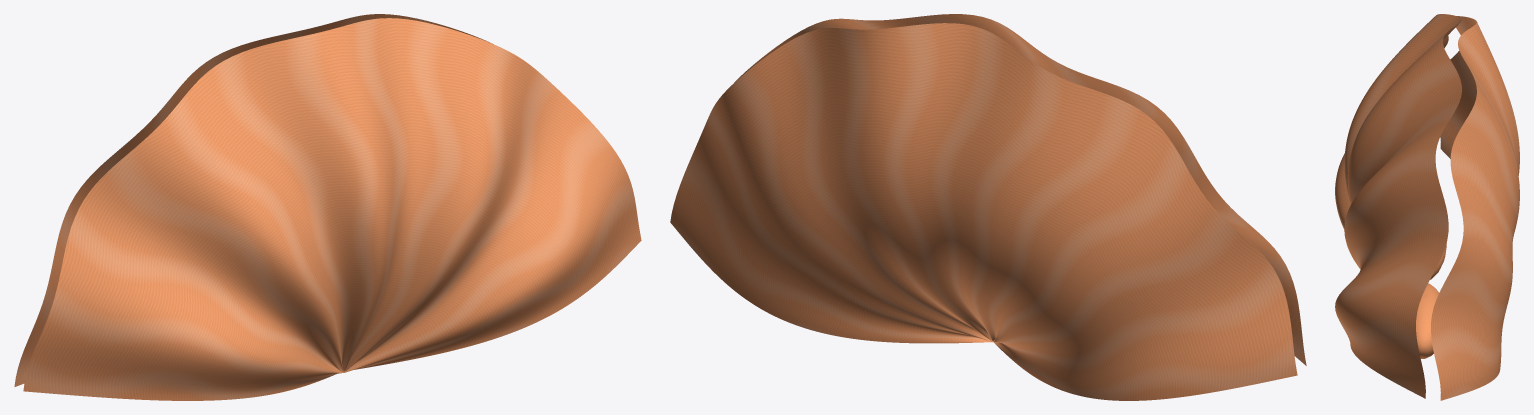
The model's file is lion-paw.glb.
The picture shows the model from 3 angles, left to right: view 1: azimuth 30°, elevation 25°; view 2: azimuth 150°, elevation 25°; view 3: azimuth 270°, elevation 25°; orthographic projection. The views are drawn at different scales.
Parts seen in each view (by area): view 1: lion-paw.001; view 2: lion-paw.001; view 3: lion-paw.001.
Part boxes in pixels (x1,y1,x2,y2): lion-paw.001: (14,14,641,400); lion-paw.001: (670,14,1306,400); lion-paw.001: (1335,14,1519,400).
Size of the model in its own units: 2.5 by 1.27 by 0.775.
4 materials, 2 textured.
